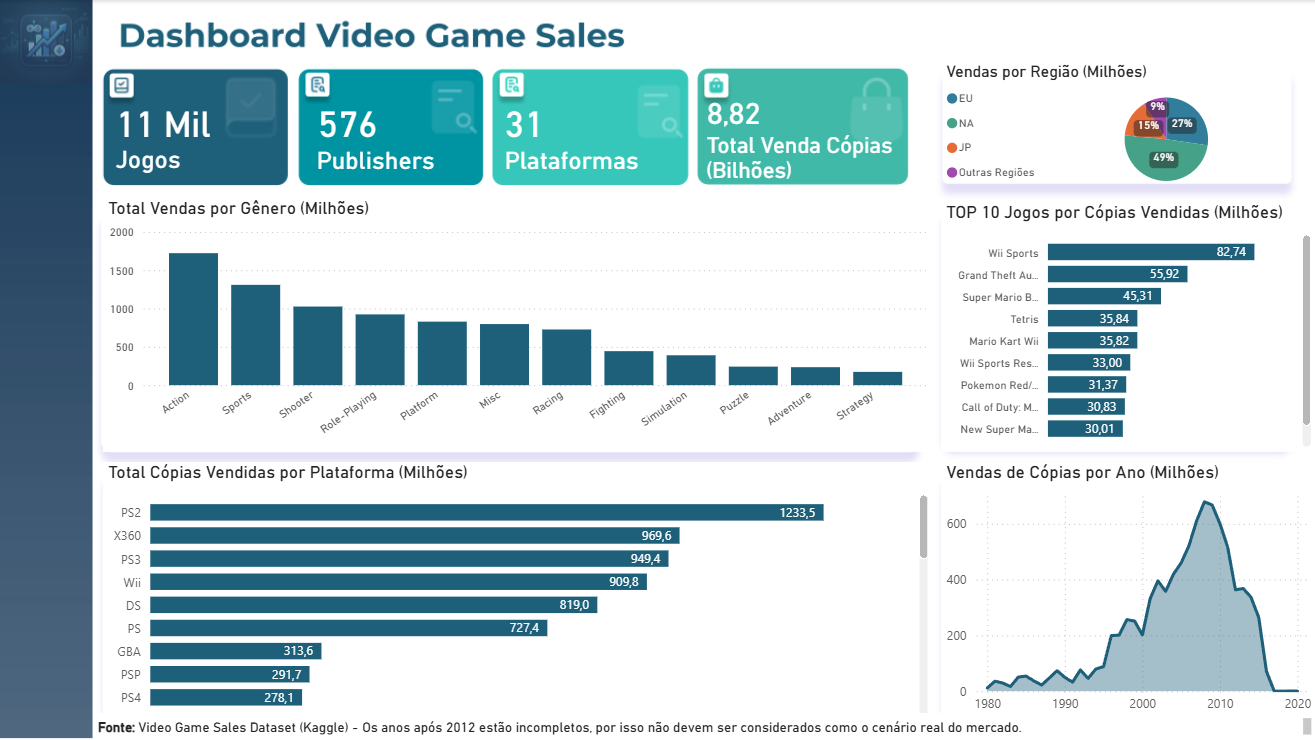

Layout of this report page (visuals, bound fields, positions):
{"tool":"powerbi","page":{"name":"Página 1","canvas":[1280,720],"ordinal":0},"visuals":[{"type":"cardVisual","fields":{"Data":["Games.Total Jogos"]},"box":[83.6,77.8,195.5,114.8],"z":1000},{"type":"cardVisual","fields":{"Data":["Games.Total Plataformas"]},"box":[462,60.3,196.5,149.8],"z":2000},{"type":"cardVisual","fields":{"Data":["Games.Total Publishers"]},"box":[279.1,60.3,195.5,149.8],"z":3000},{"type":"cardVisual","fields":{"Data":["Games.Total Vendas (Bilhões)"]},"box":[658.5,69.1,249,132.3],"z":4000},{"type":"columnChart","title":"Total Vendas por Gênero (Milhões)","fields":{"Category":["Games.Genre"],"Y":["Games.Total Vendas"]},"box":[100.2,192.6,807.3,247.1],"z":5000},{"type":"barChart","title":"TOP 10 Jogos por Cópias Vendidas (Milhões)","fields":{"Category":["Games.Name"],"Y":["Sum(Games.Global_Sales)"]},"box":[915.3,196.5,364.7,243.2],"z":6000},{"type":"barChart","title":"Total Cópias Vendidas por Plataforma (Milhões)","fields":{"Y":["Games.Total Vendas"],"Category":["Games.Platform"]},"box":[100.2,449.4,807.3,252.9],"z":7000},{"type":"areaChart","title":"Vendas de Cópias por Ano (Milhões)","fields":{"Category":["Games.Year"],"Y":["Sum(Games.Global_Sales)"]},"box":[915.3,449.4,364.7,252.9],"z":8000},{"type":"pieChart","title":"Vendas por Região (Milhões)","fields":{"Y":["Sum(Games.EU_Sales)","Sum(Games.NA_Sales)","Sum(Games.JP_Sales)","Sum(Games.Other_Sales)"]},"box":[915.3,60.3,343.3,132.3],"z":9000},{"type":"textbox","box":[90.5,693.5,1189.5,26.3],"z":10000}]}

Visuals, with their boxes in screenshot pixels (x1, y1, x2, y2), scaled from the page's 1280x720 canvas onto the 1315x740 screenshot:
cardVisual - Games.Total Jogos: bbox(86, 80, 287, 198)
cardVisual - Games.Total Plataformas: bbox(475, 62, 677, 216)
cardVisual - Games.Total Publishers: bbox(287, 62, 488, 216)
cardVisual - Games.Total Vendas (Bilhões): bbox(677, 71, 932, 207)
"Total Vendas por Gênero (Milhões)" columnChart: bbox(103, 198, 932, 452)
"TOP 10 Jogos por Cópias Vendidas (Milhões)" barChart: bbox(940, 202, 1314, 452)
"Total Cópias Vendidas por Plataforma (Milhões)" barChart: bbox(103, 462, 932, 722)
"Vendas de Cópias por Ano (Milhões)" areaChart: bbox(940, 462, 1314, 722)
"Vendas por Região (Milhões)" pieChart: bbox(940, 62, 1293, 198)
textbox: bbox(93, 713, 1314, 739)
